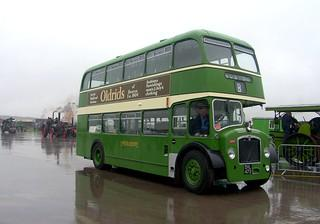bus: (77, 29, 284, 187)
